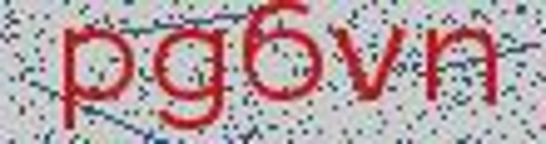6: (238, 2, 323, 120)
g: (147, 19, 233, 143)
n: (418, 17, 504, 122)
p: (54, 17, 137, 140)
v: (326, 16, 406, 113)
